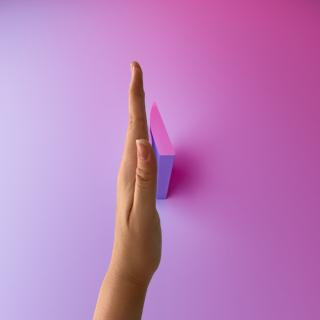Right: (99, 53, 175, 299)
